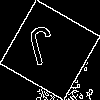J: (25, 25, 61, 76)
